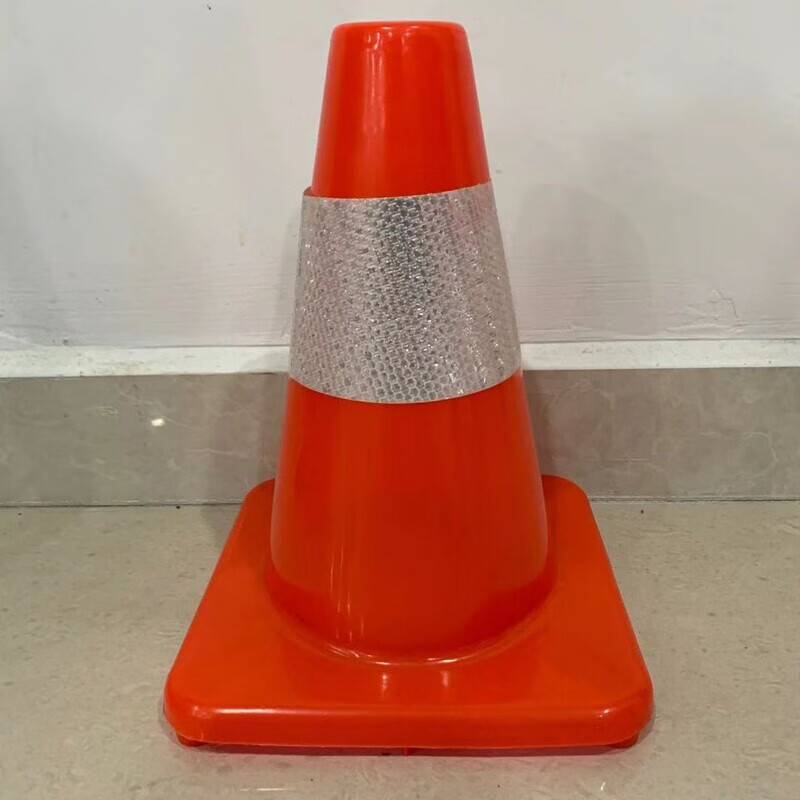traffic_cone: (198, 19, 690, 774)
